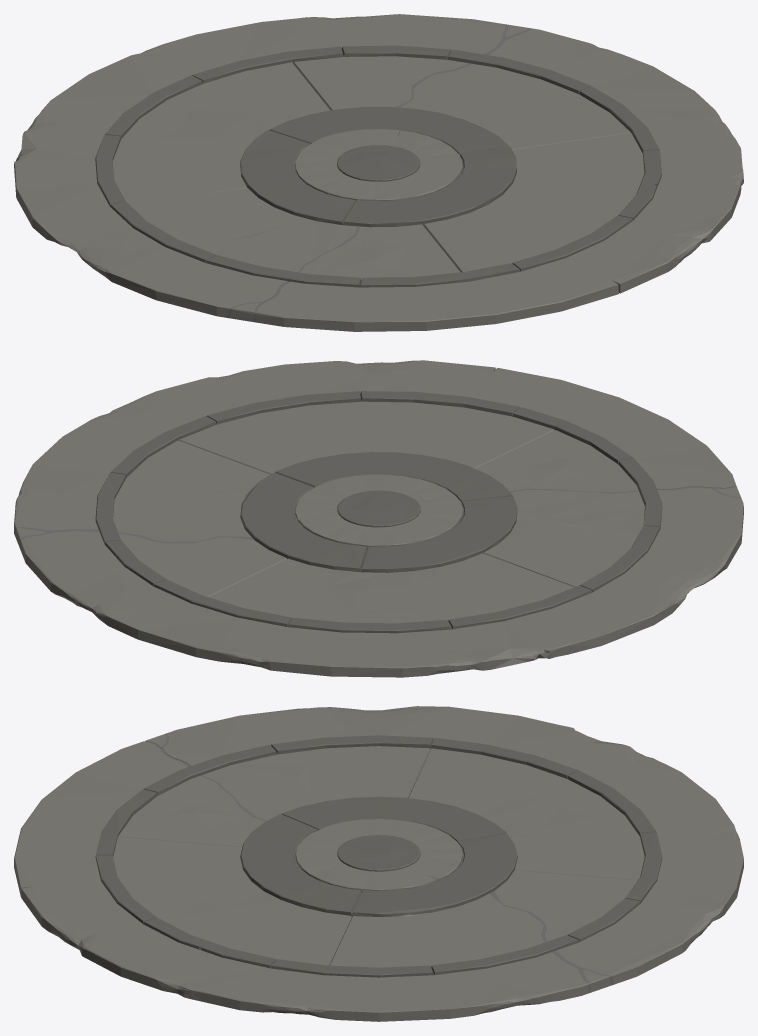
The model's file is Arena_01.fbx.
3 renders of one model, top to bottom at view 1: azimuth 30°, elevation 25°; view 2: azimuth 150°, elevation 25°; view 3: azimuth 270°, elevation 25°, orthographic.
Parts seen in each view (by area): view 1: Arena_01; view 2: Arena_01; view 3: Arena_01.
Part boxes in pixels (x1,y1,x2,y2): Arena_01: (14, 14, 743, 331); Arena_01: (14, 360, 743, 677); Arena_01: (14, 706, 743, 1021).
Bounding box in the file's own units: 13.16 × 0.3213 × 13.23.
